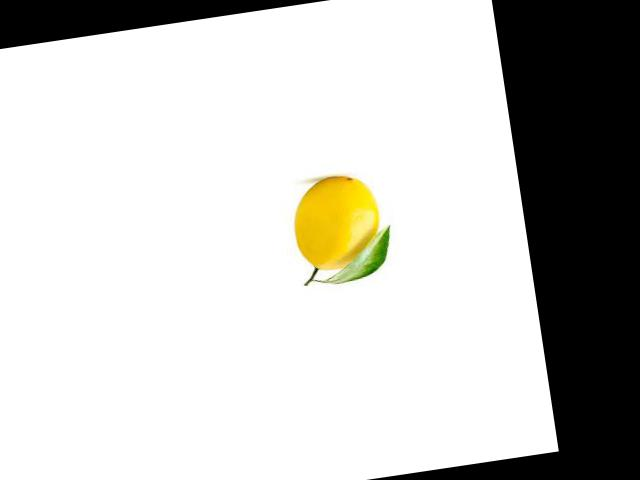lemon: (280, 162, 391, 282)
